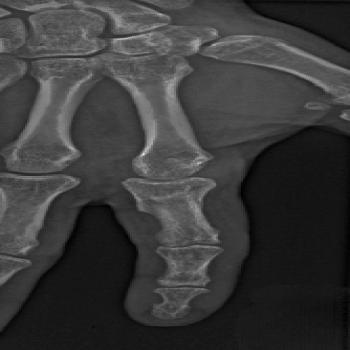Fracture: (128, 205, 184, 237)
